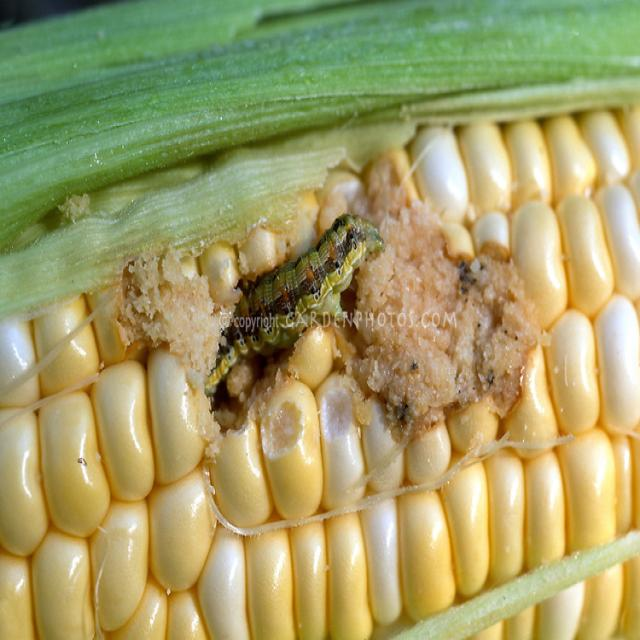Corn-earworm: (206, 225, 381, 413)
